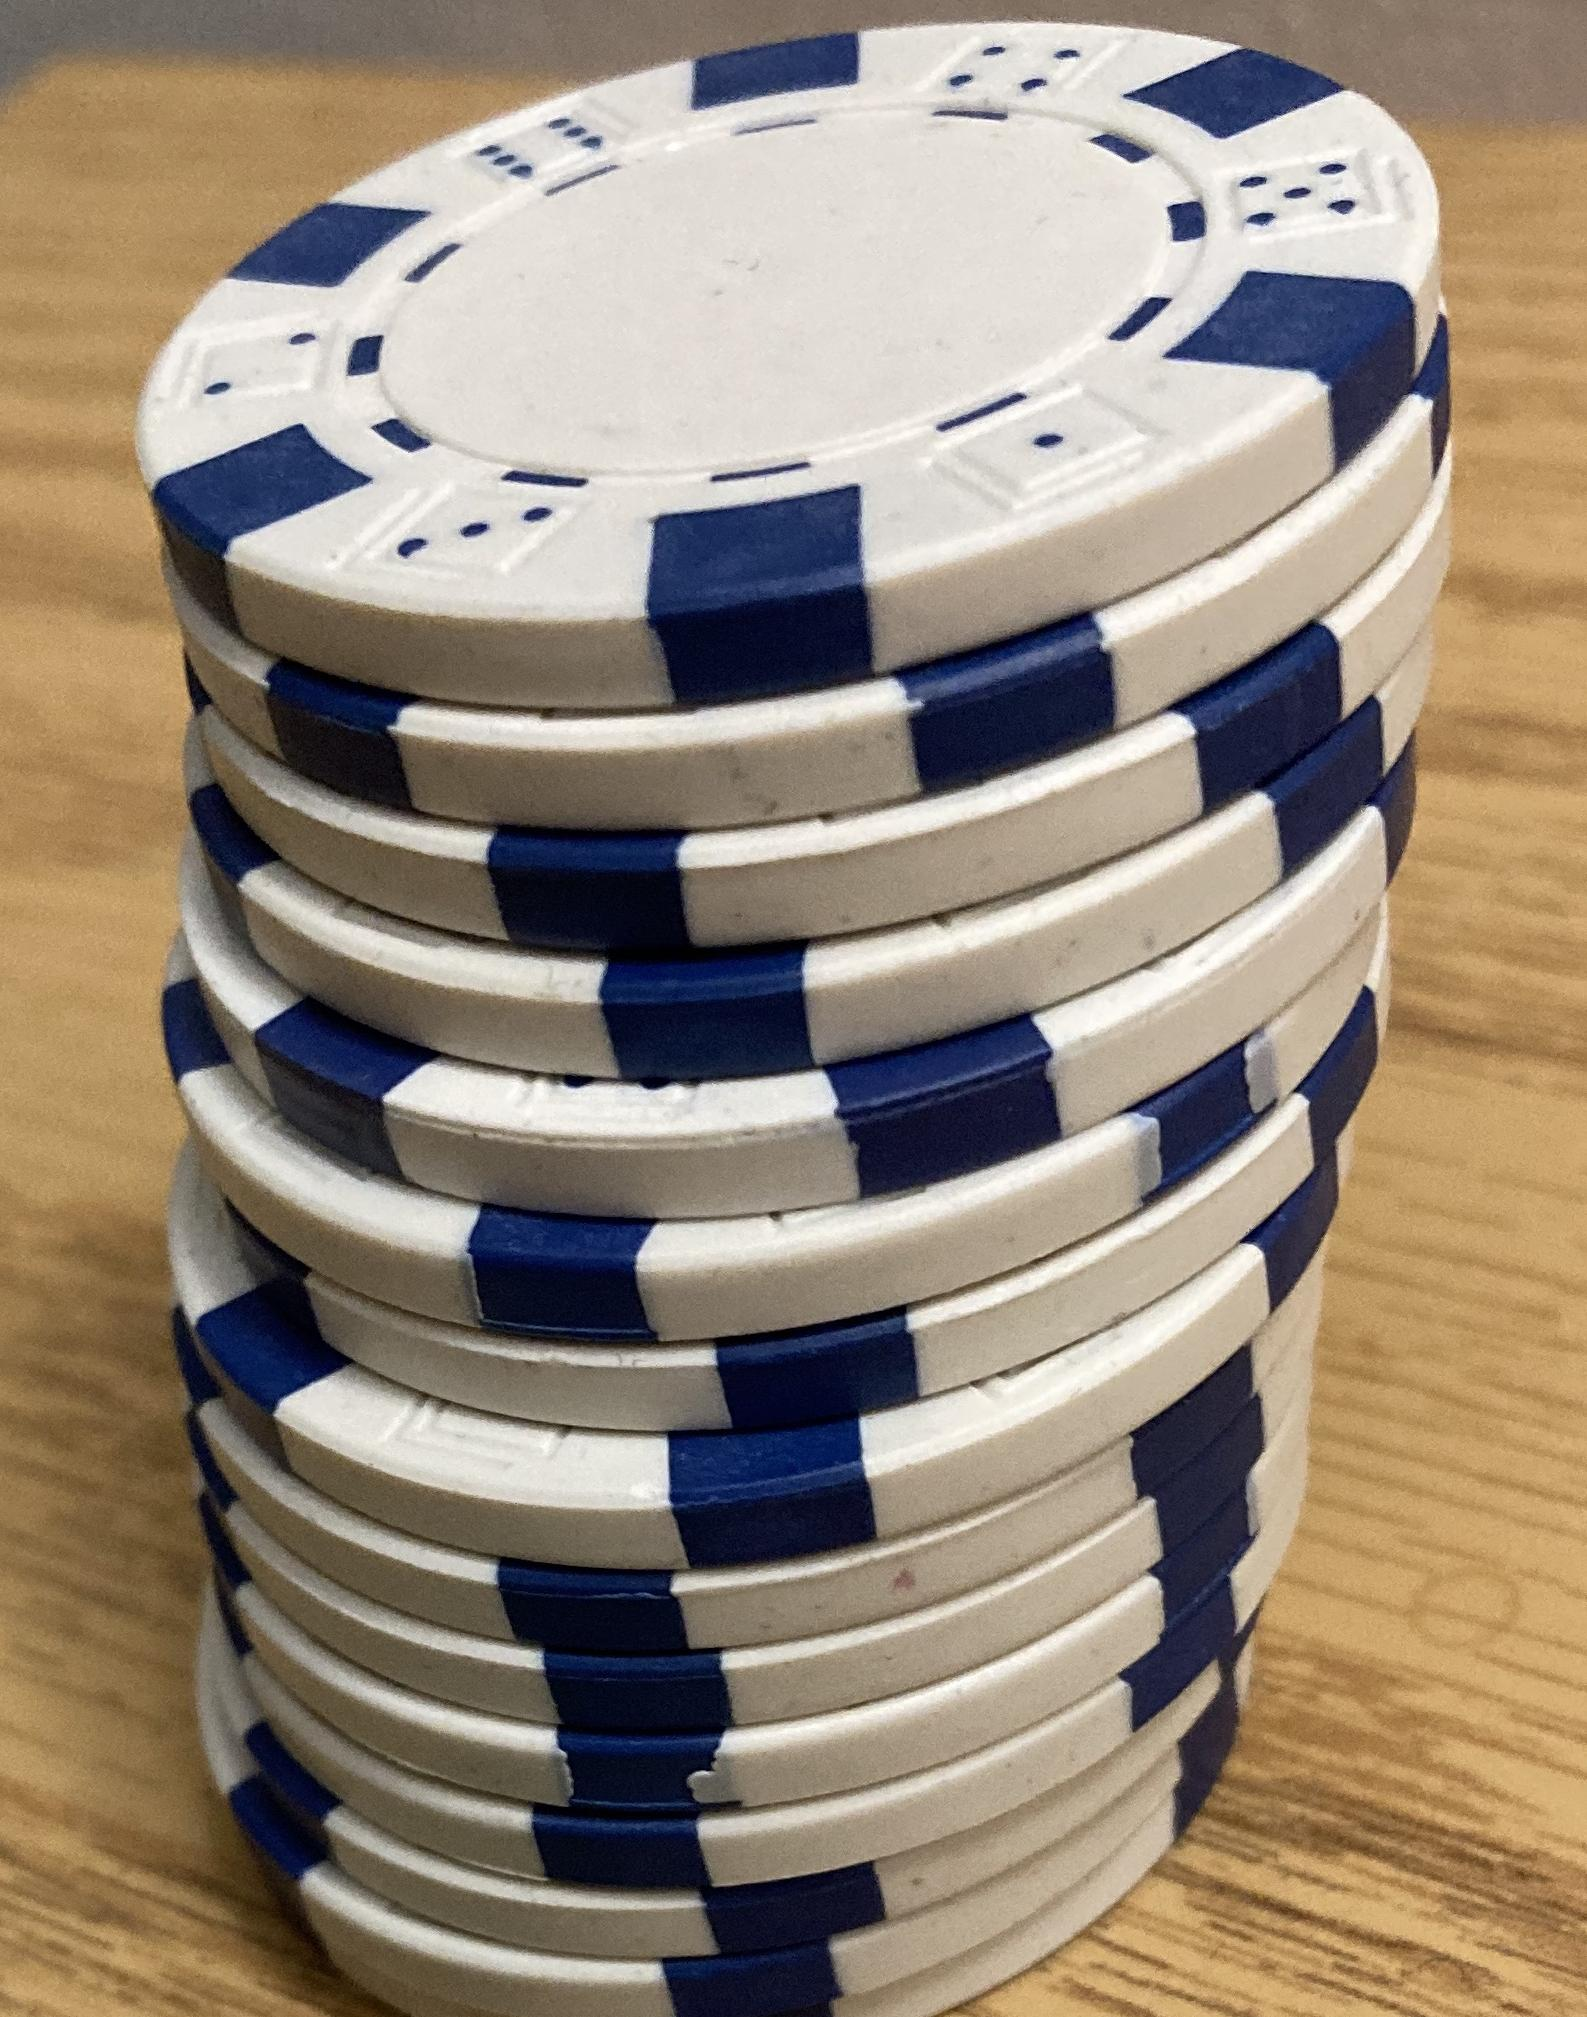Chip: (2, 2, 1587, 2017)
